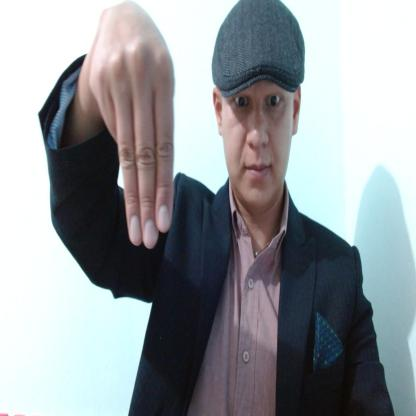M: (87, 1, 174, 248)
